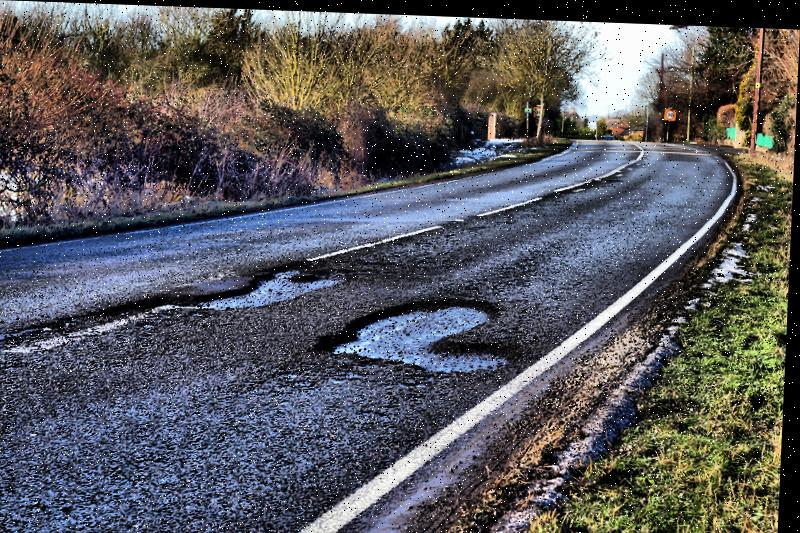pothole: (322, 287, 516, 382), (133, 254, 343, 316)
